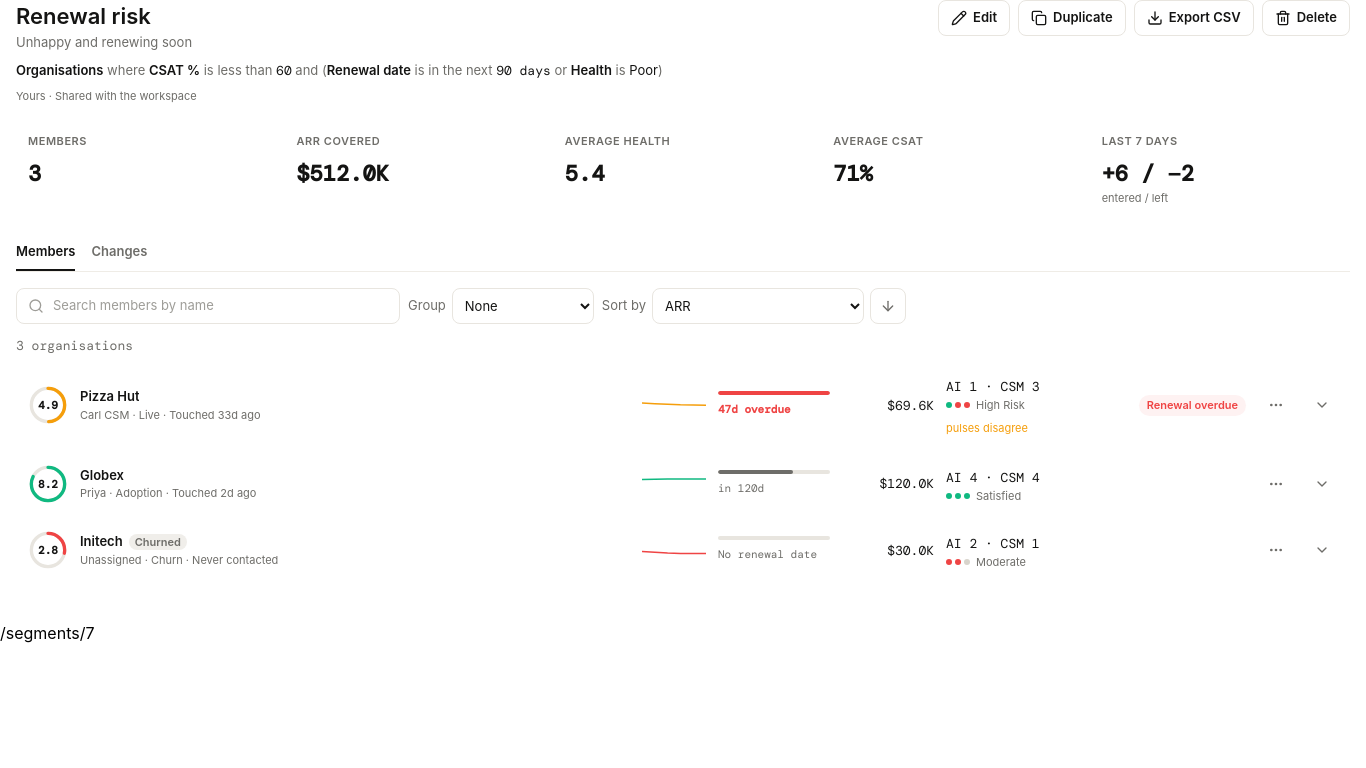
Test: /segments/:id (spec §3) › keeps the dialog open with the refusal, and stays on the segment, when the delete fails
The image size is (1366, 768).
Click the button "Delete" at (1306, 18), box x1=1262 y1=0 x2=1350 y2=36
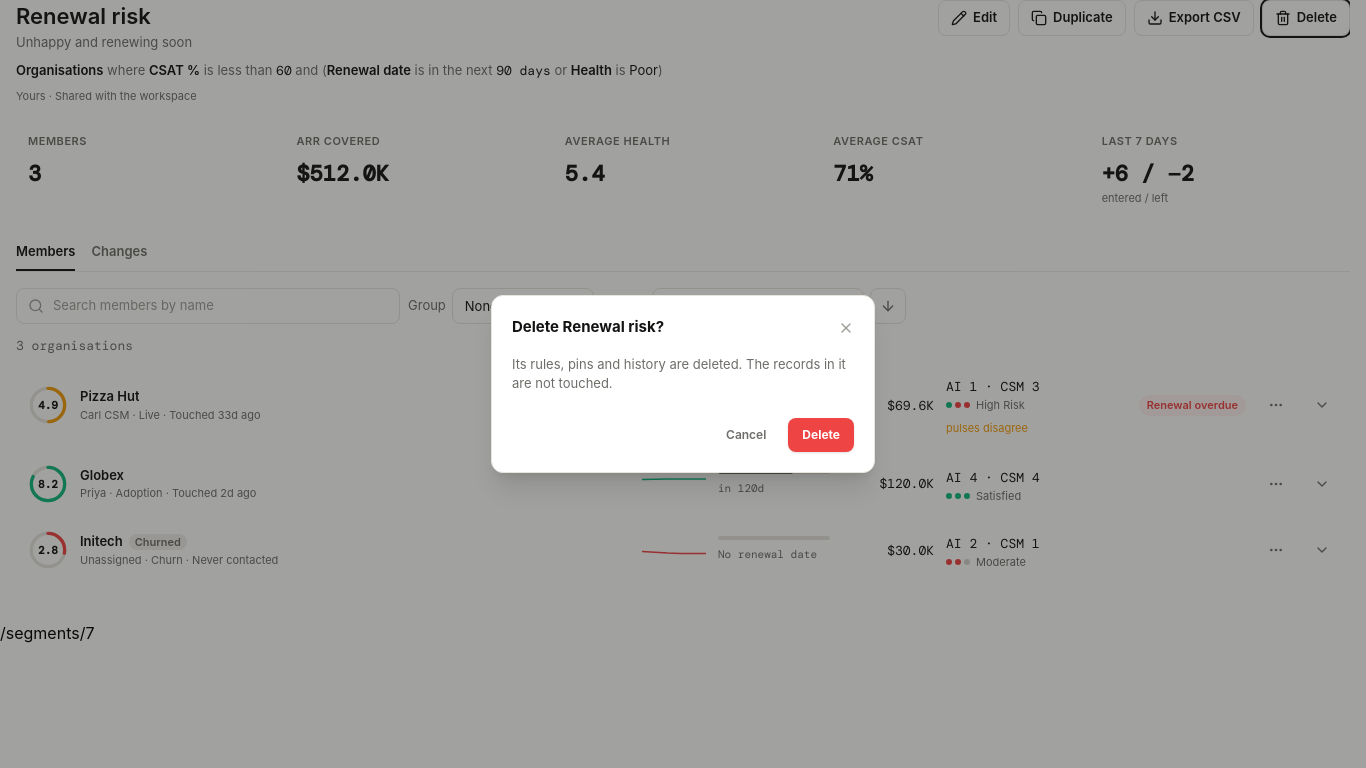
Click the button "Delete" at (821, 435), box x1=788 y1=418 x2=854 y2=452
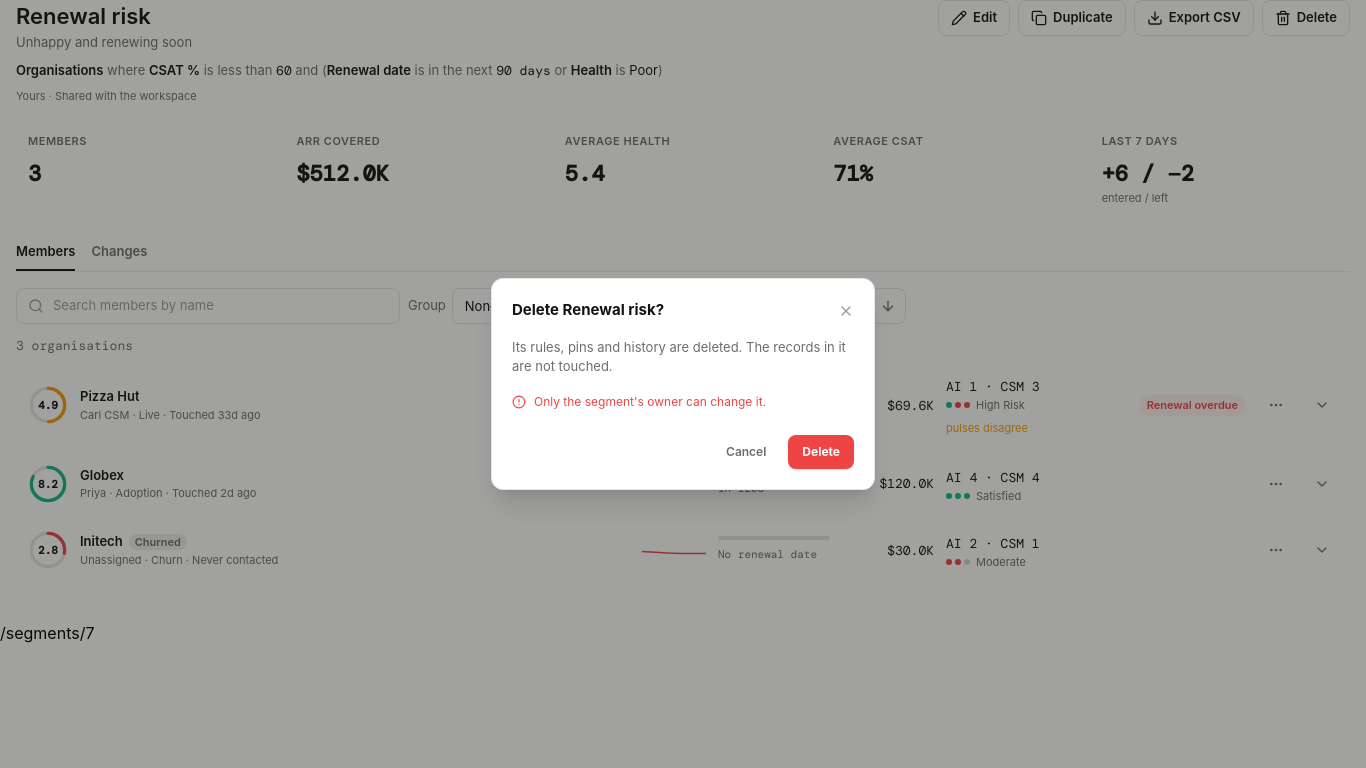
Check: the text with test id "where" reads "/segments/7", box x1=0 y1=622 x2=94 y2=642
Check: the heading "Delete Renewal risk?" is shown, box x1=512 y1=299 x2=664 y2=322
Check: the text "Only the segment's owner can change it." is shown, box x1=512 y1=394 x2=766 y2=409
